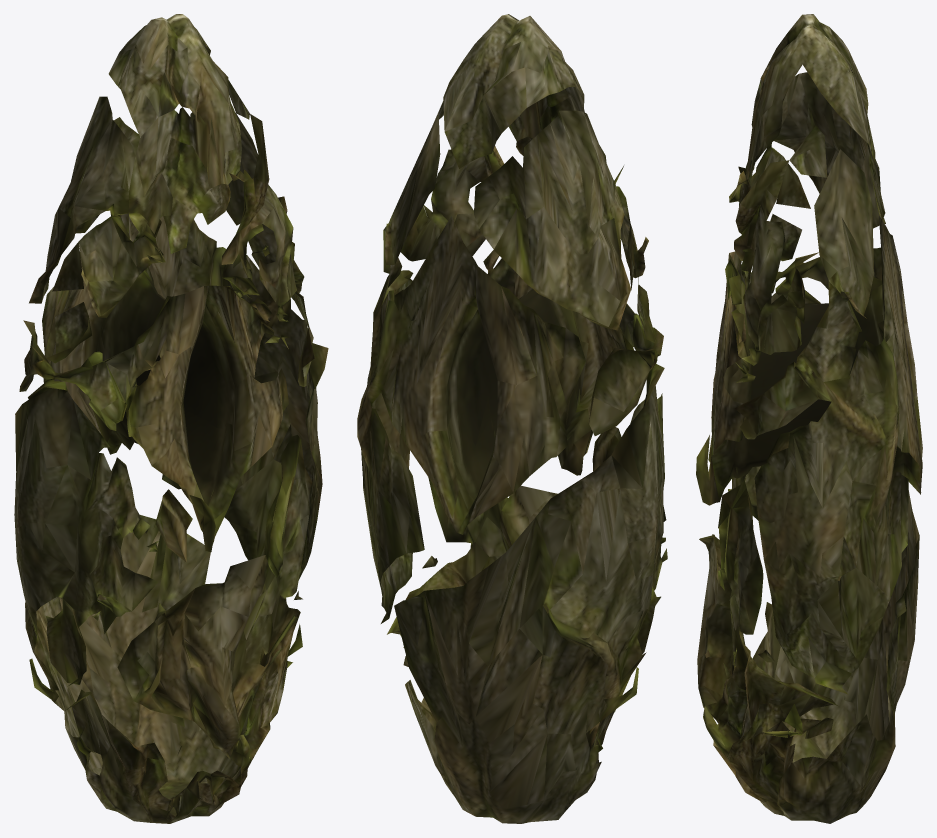
The model's file is stone_04.glb.
The picture shows the model from 3 angles, left to right: view 1: azimuth 30°, elevation 25°; view 2: azimuth 150°, elevation 25°; view 3: azimuth 270°, elevation 25°; orthographic projection.
Parts seen in each view (by area): view 1: AUTO_STONE04_STONE; view 2: AUTO_STONE04_STONE; view 3: AUTO_STONE04_STONE.
Part boxes in pixels (x1,y1,x2,y2): AUTO_STONE04_STONE: [14, 14, 328, 823]; AUTO_STONE04_STONE: [357, 14, 667, 823]; AUTO_STONE04_STONE: [696, 14, 922, 823].
Size of the model in its own units: 0.7449 by 1.9 by 0.5019.
1 material, 1 textured.
